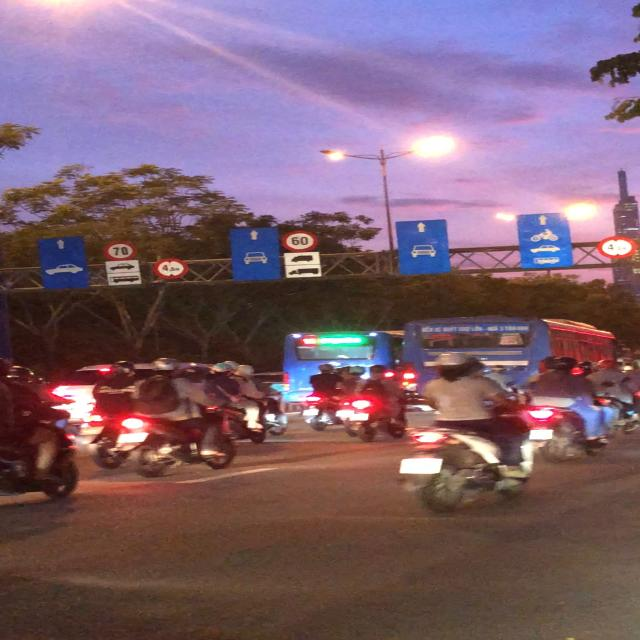Bien bao han che chieu cao: (594, 235, 640, 264), (152, 257, 190, 281)
Bien bao toc do toi da cho phep: (276, 227, 322, 252), (99, 239, 140, 261)
